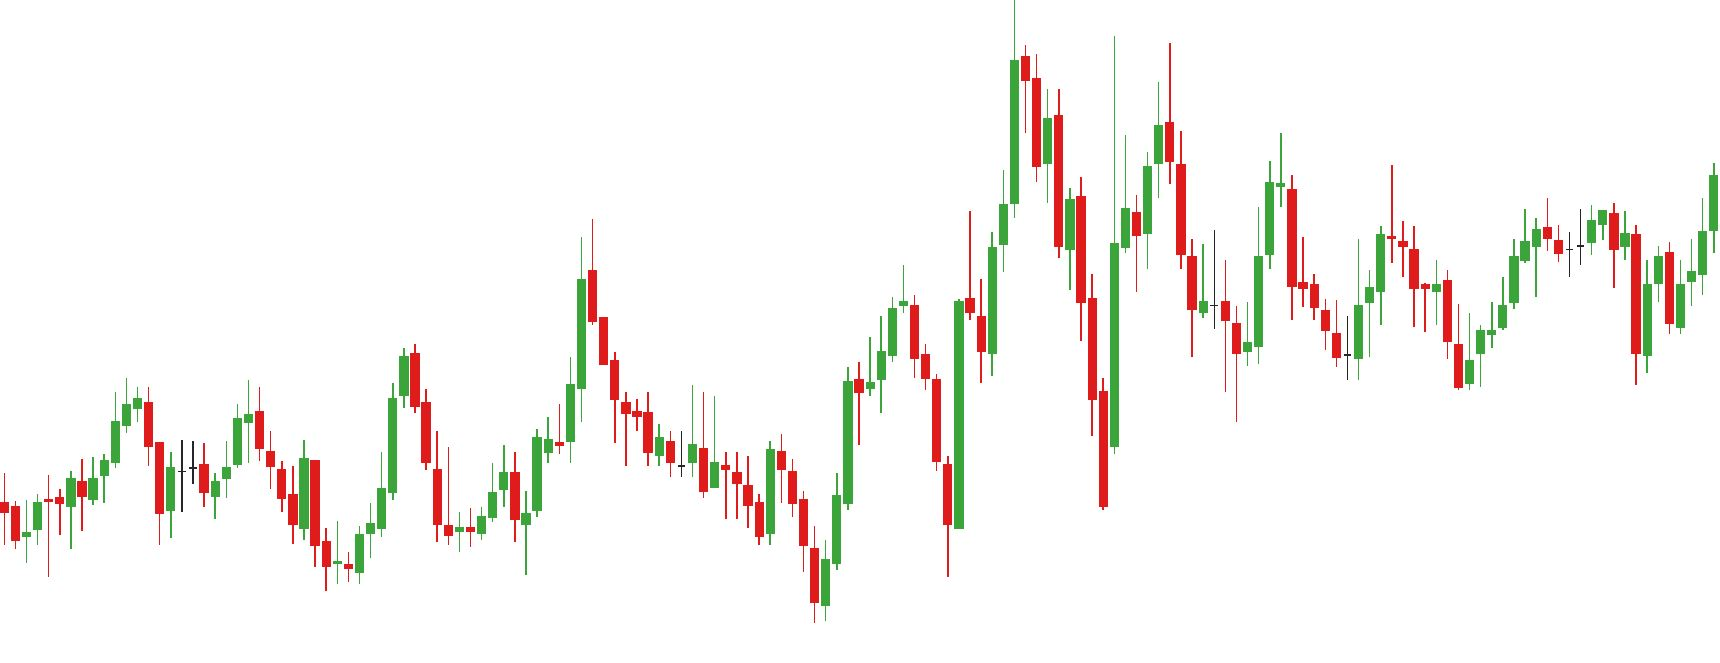buy: (975, 200, 1121, 514), (1531, 222, 1653, 393), (1342, 255, 1476, 400), (442, 475, 534, 583)
